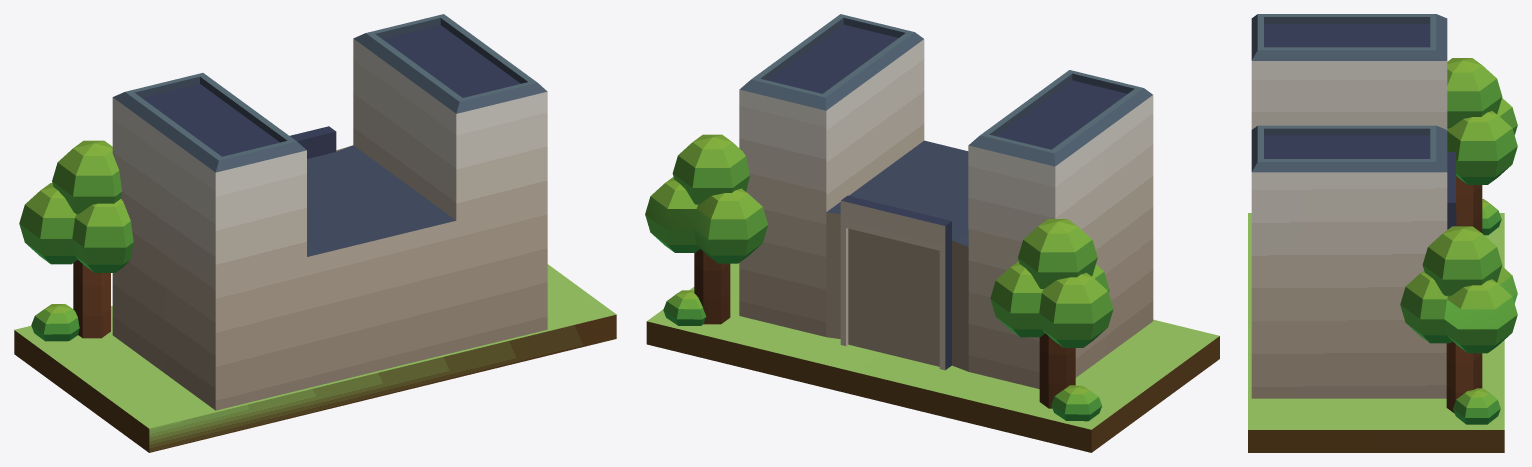
Rendered from ecole.fbx.
3 views of the same model, side by side, from view 1: azimuth 30°, elevation 25°; view 2: azimuth 150°, elevation 25°; view 3: azimuth 270°, elevation 25° (orthographic). The views are drawn at different scales.
Visible parts, largest first — view 1: arbre2.004; view 2: arbre2.004; view 3: arbre2.004.
Part boxes in pixels (box(x1,y1,x2,y2)): arbre2.004: box(14, 14, 616, 452); arbre2.004: box(645, 14, 1219, 452); arbre2.004: box(1248, 14, 1517, 452).
Size of the model in its own units: 405 by 210 by 221.
